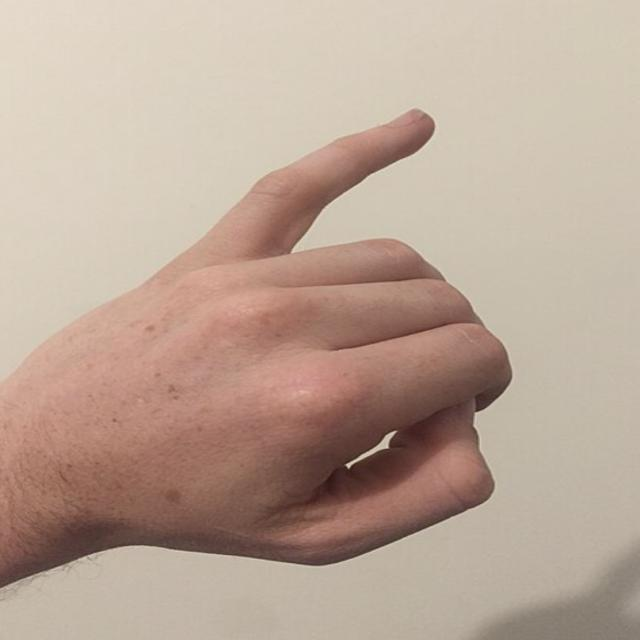pinky: (192, 99, 448, 266)
